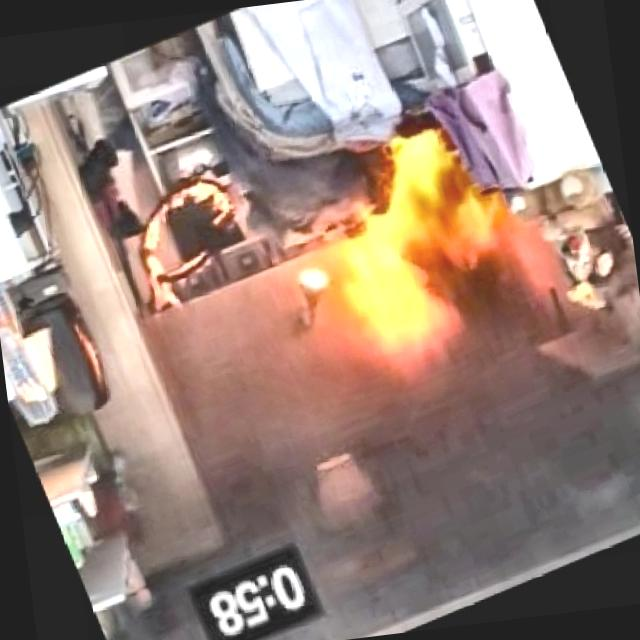fire: (318, 162, 545, 376)
